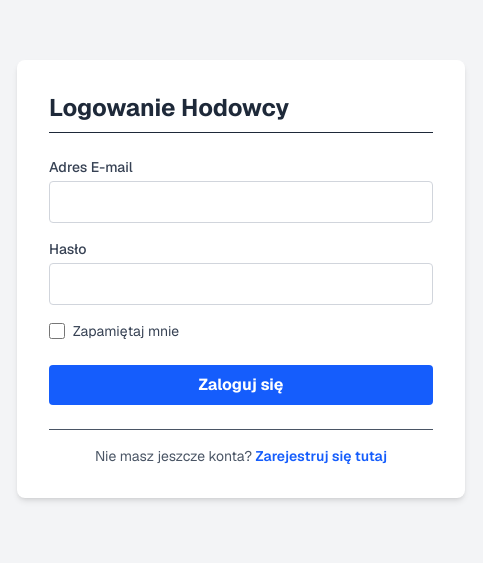
it: Breeder Login Process › Should prevent user from logging in if their account has not been approved by an administrator (PENDING Status)
This screenshot has width=483, height=563.
Type "pending.user@test.cy" into the field named "email" at coordinates (241, 202), box [49,181,433,223]
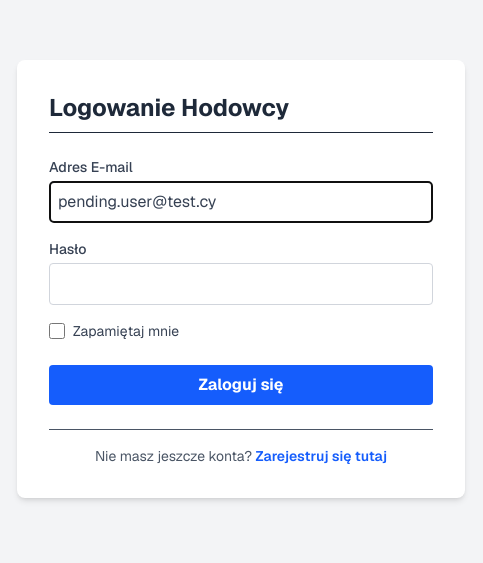
Type "ValidPassword1!" into the password field named "password" at coordinates (241, 284), box [49,263,433,305]
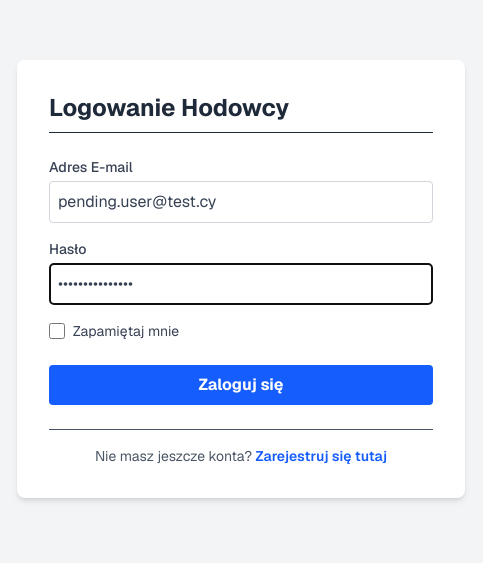
Click the submit button at coordinates (241, 385), box [49,365,433,405]
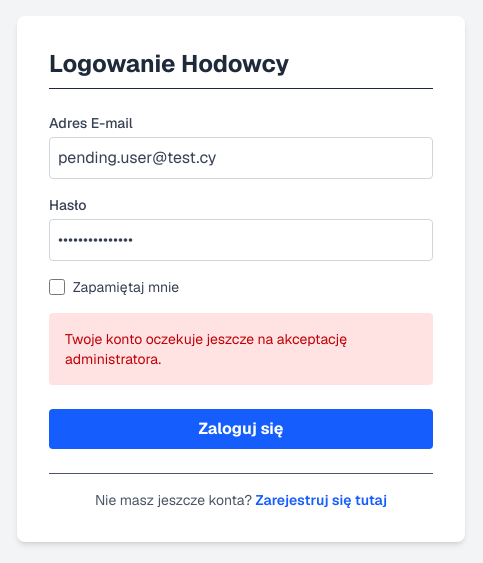
Now the text "Twoje konto oczekuje jeszcze na akceptację administratora." is shown, box [49,313,433,385]
